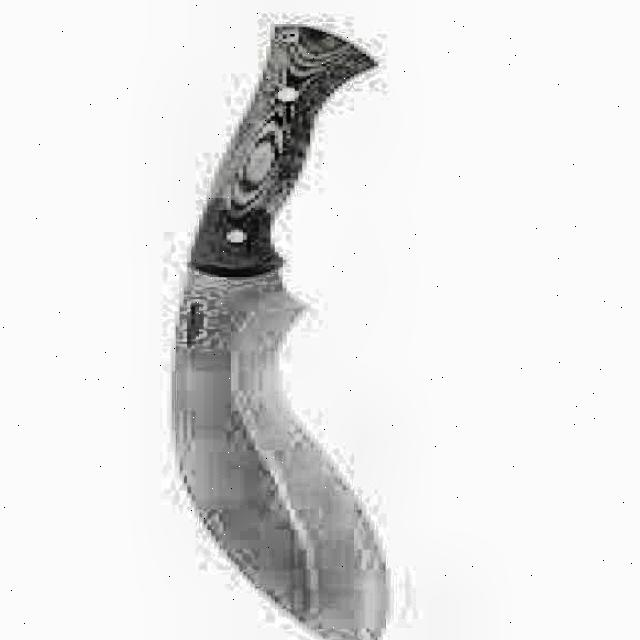knife: (160, 14, 410, 640)
